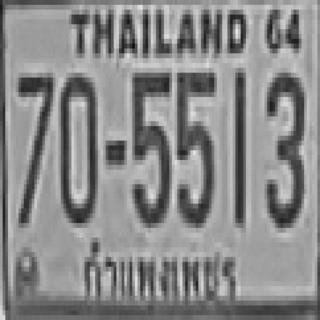N00: (58, 70, 95, 221)
N01: (233, 68, 243, 223), (232, 68, 242, 223)
N03: (264, 68, 302, 223)
N05: (130, 68, 169, 223), (175, 68, 214, 223)
N07: (16, 68, 53, 223)
P16: (78, 233, 242, 312)
